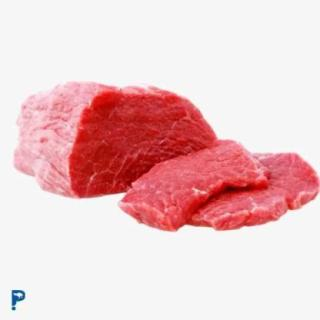Daging Sapi: (17, 86, 218, 195), (116, 141, 271, 232), (203, 152, 317, 231)
